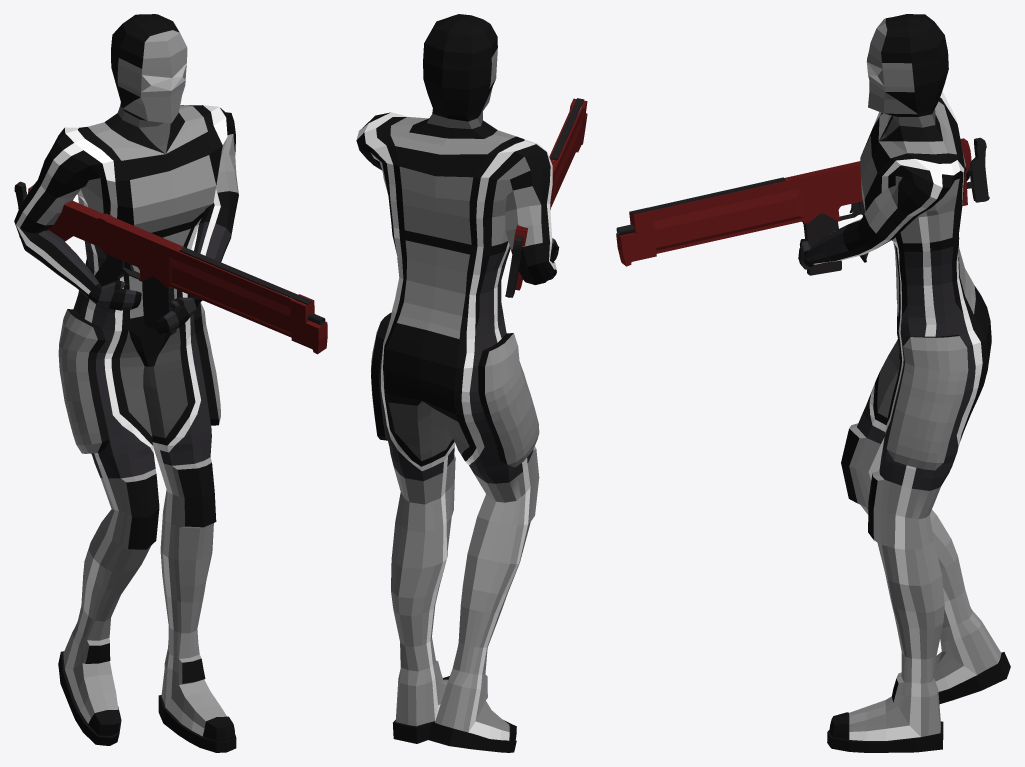
File: TKR9.obj
3 views of the same model, side by side, from view 1: azimuth 30°, elevation 25°; view 2: azimuth 150°, elevation 25°; view 3: azimuth 270°, elevation 25° (orthographic).
Visible parts, largest first — view 1: metarig_object_metarig_mesh, Cube.001; view 2: metarig_object_metarig_mesh, Cube.001; view 3: metarig_object_metarig_mesh, Cube.001.
Boxes of the visible parts, bbox=[...] form: metarig_object_metarig_mesh: bbox=[14, 14, 238, 752]; Cube.001: bbox=[14, 181, 327, 354]; metarig_object_metarig_mesh: bbox=[356, 14, 559, 752]; Cube.001: bbox=[505, 98, 587, 297]; metarig_object_metarig_mesh: bbox=[798, 14, 1010, 752]; Cube.001: bbox=[616, 137, 989, 275].
Bounding box in the file's own units: 0.5097 × 1.74 × 0.8749.
Materials: 2 (2 with a texture image).
